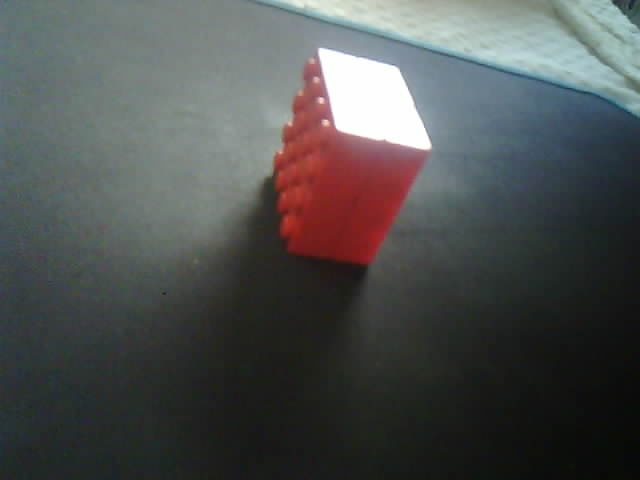lego: (272, 47, 434, 267)
